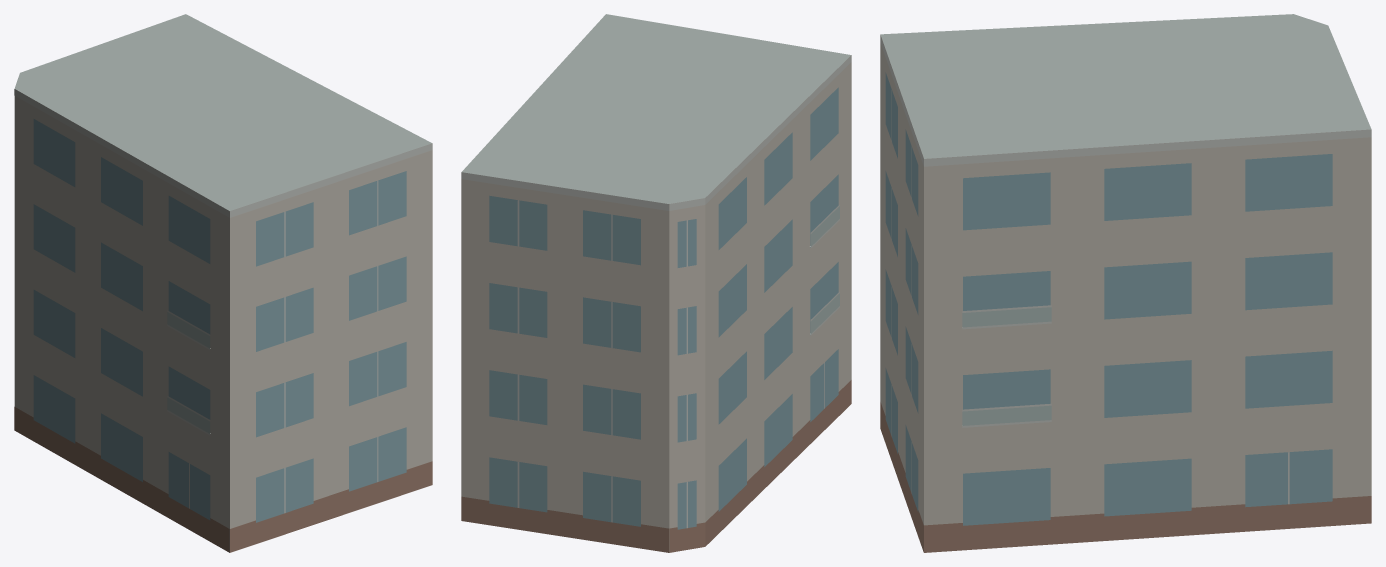
File: survey-upis-32703417.glb
The picture shows the model from 3 angles, left to right: view 1: azimuth 30°, elevation 25°; view 2: azimuth 150°, elevation 25°; view 3: azimuth 270°, elevation 25°; orthographic projection. The views are drawn at different scales.
Parts seen in each view (by area): view 1: survey-upis-32703417.tmp; view 2: survey-upis-32703417.tmp; view 3: survey-upis-32703417.tmp.
Part boxes in pixels (x1=…): survey-upis-32703417.tmp: x1=14, y1=14, x2=432, y2=552; survey-upis-32703417.tmp: x1=461, y1=14, x2=851, y2=552; survey-upis-32703417.tmp: x1=880, y1=14, x2=1371, y2=552.
Size of the model in its own units: 9.72 by 12.3 by 13.91.
